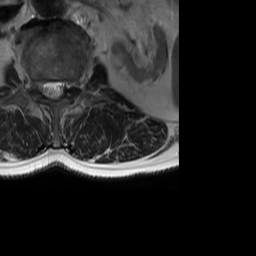CCS_normal: (47, 75, 56, 105)
LFS_stenosis: (66, 73, 73, 97)
LLS_normal: (56, 76, 65, 101)
RFS_stenosis: (32, 73, 40, 97)
RLS_normal: (40, 76, 47, 100)
